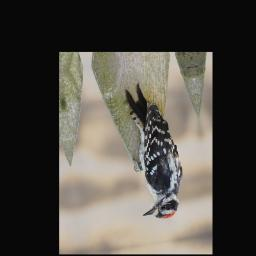Woodpecker: (125, 78, 190, 223)
